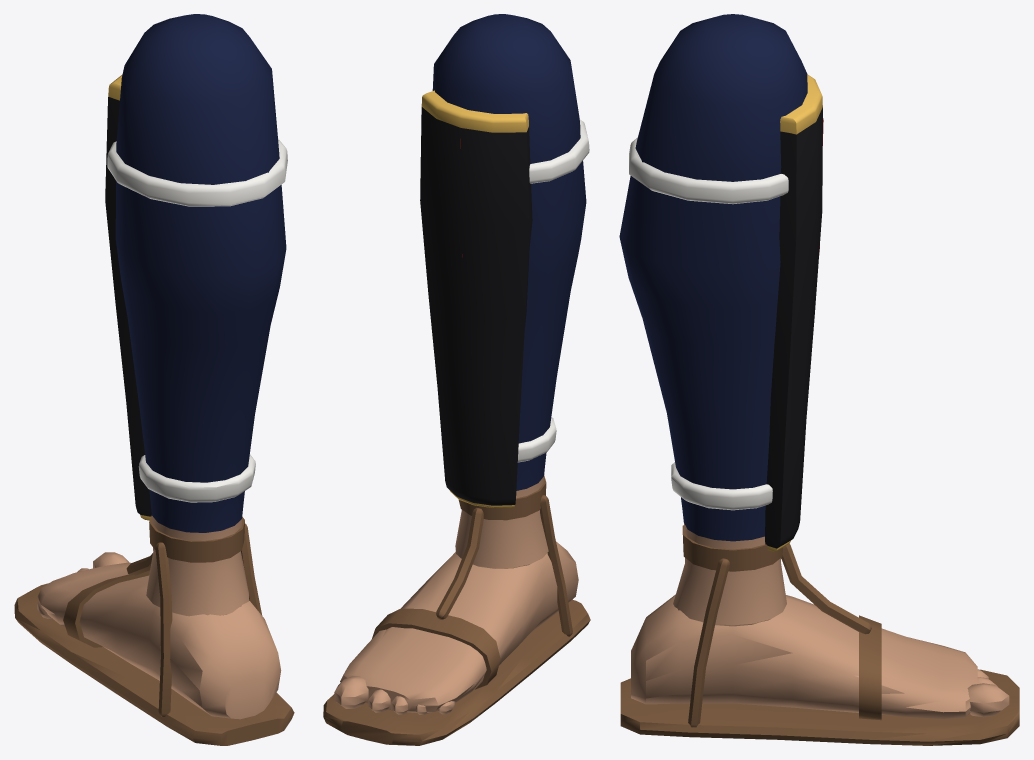
File: shin_l.glb
The picture shows the model from 3 angles, left to right: view 1: azimuth 30°, elevation 25°; view 2: azimuth 150°, elevation 25°; view 3: azimuth 270°, elevation 25°; orthographic projection. The views are drawn at different scales.
Visible parts, largest first — view 1: OUT; view 2: OUT; view 3: OUT.
Boxes of the visible parts, x1,y1,x2,y2 form: OUT: (14,14,294,745); OUT: (323,14,590,745); OUT: (619,14,1019,745).
Size of the model in its own units: 0.1221 by 0.506 by 0.2667.
